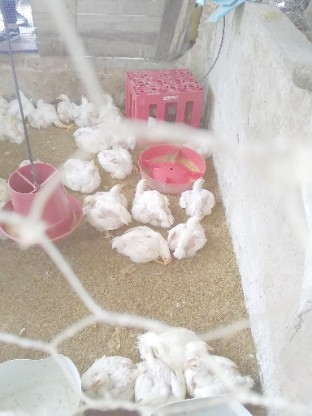Pollos: (71, 348, 140, 404), (111, 222, 177, 275), (135, 319, 214, 363), (184, 356, 255, 401), (132, 360, 191, 413), (73, 181, 125, 231), (125, 173, 173, 225), (166, 218, 208, 256), (185, 169, 216, 216), (99, 149, 138, 183), (60, 158, 100, 190), (104, 122, 138, 154), (33, 91, 58, 130), (74, 125, 106, 154), (10, 83, 29, 120), (101, 89, 121, 121), (74, 92, 97, 117), (53, 91, 76, 112), (0, 91, 14, 114)
